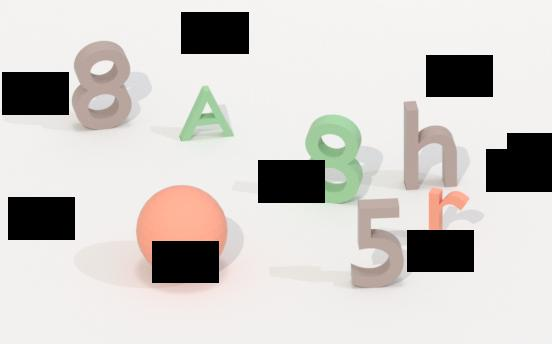5: (345, 198, 408, 290)
8: (298, 113, 369, 207), (68, 44, 137, 134)
A-hoa: (172, 83, 242, 145)
R: (424, 185, 474, 242)
cau: (129, 187, 235, 280)
h: (398, 100, 468, 193)
